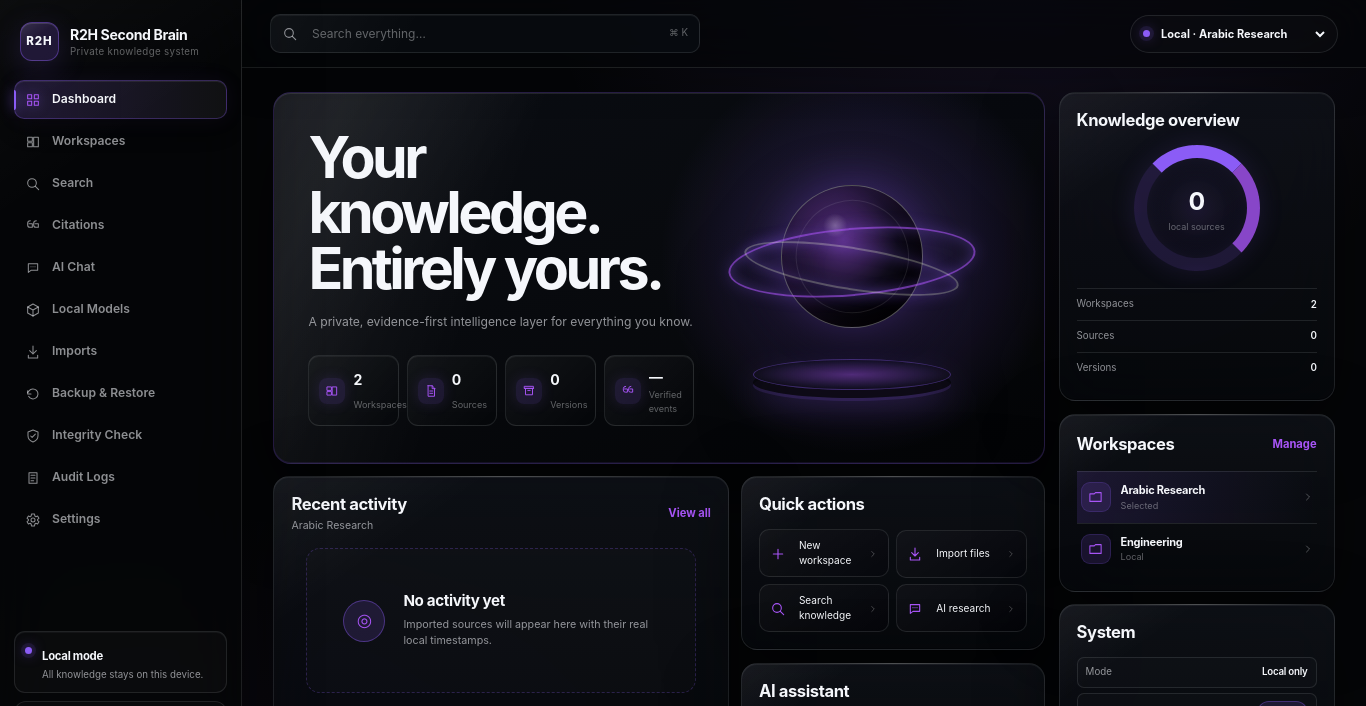
Test: R2H Second Brain desktop interface › clears stale results immediately when the selected workspace changes
Step 1. Click the button "Search" → click(120, 184), box [14,164,227,203]
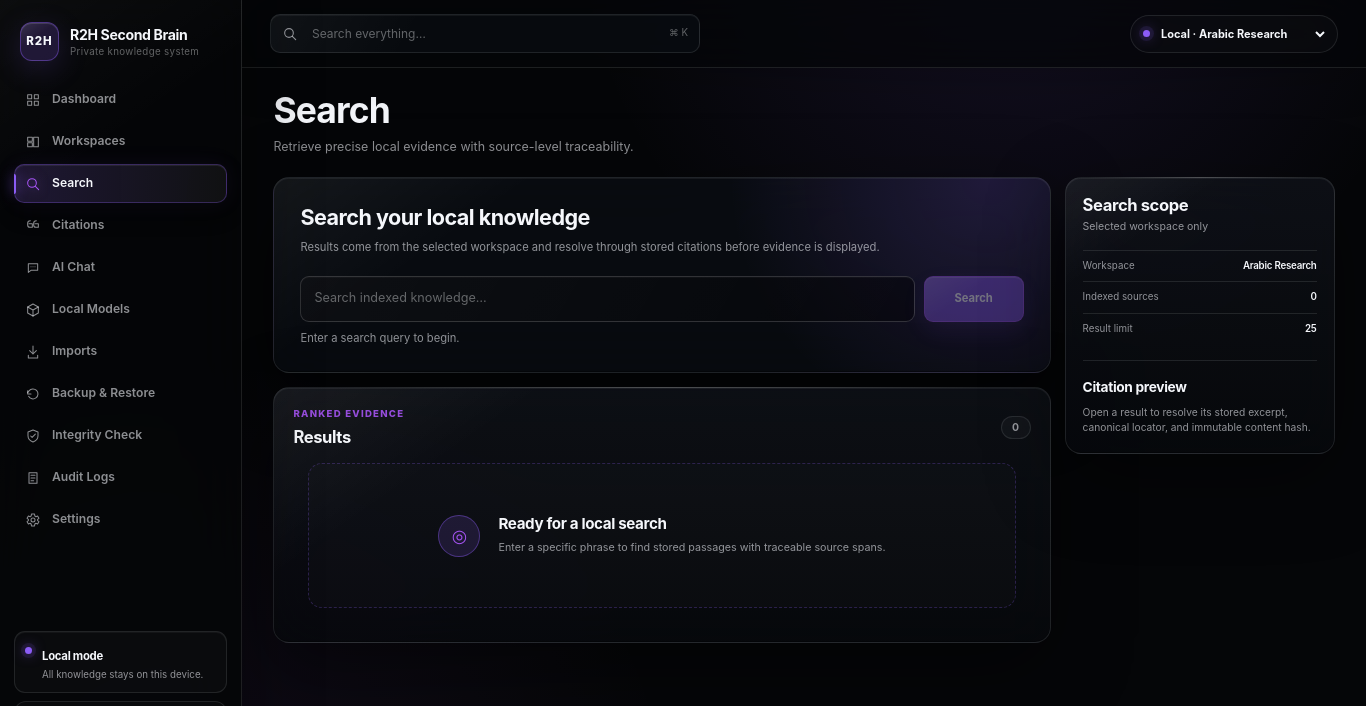
Step 2. Type "result" into the field named "search query" → (608, 299), box [300,276,915,322]
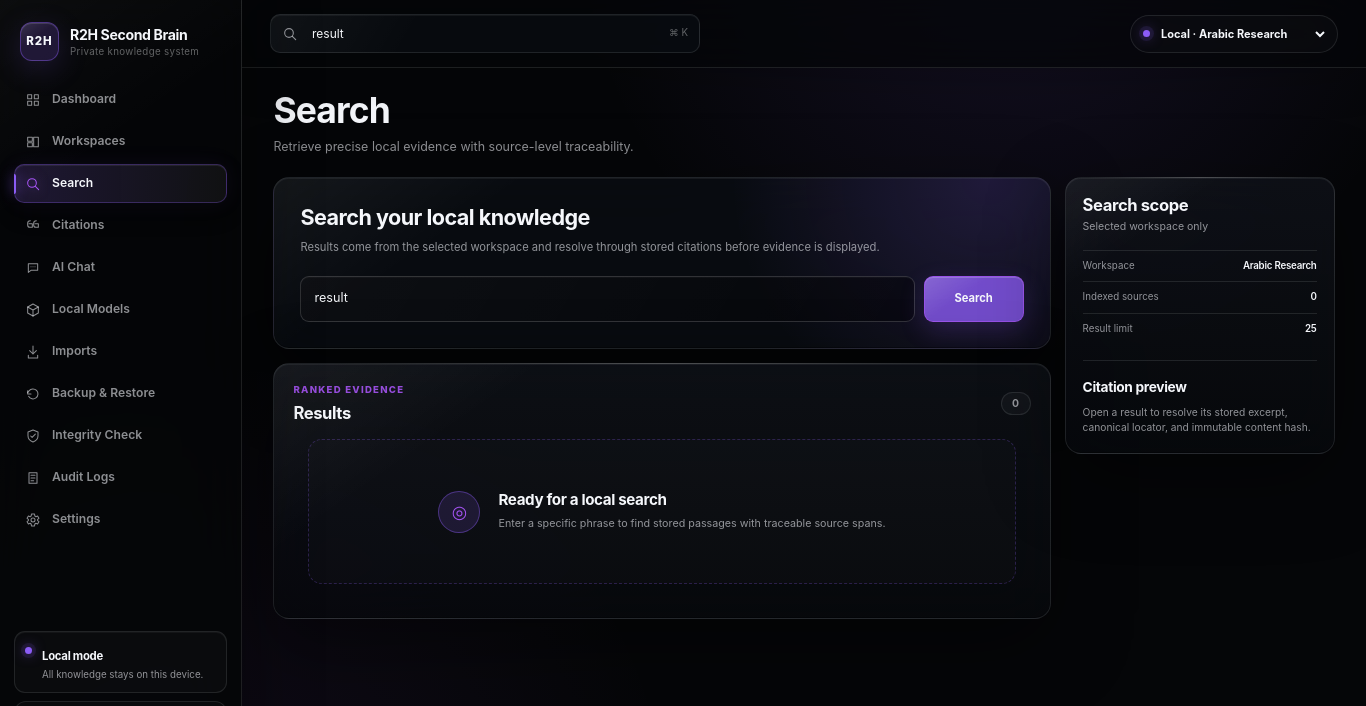
Step 3. Click the button "Search" → click(974, 299), box [924,276,1024,322]
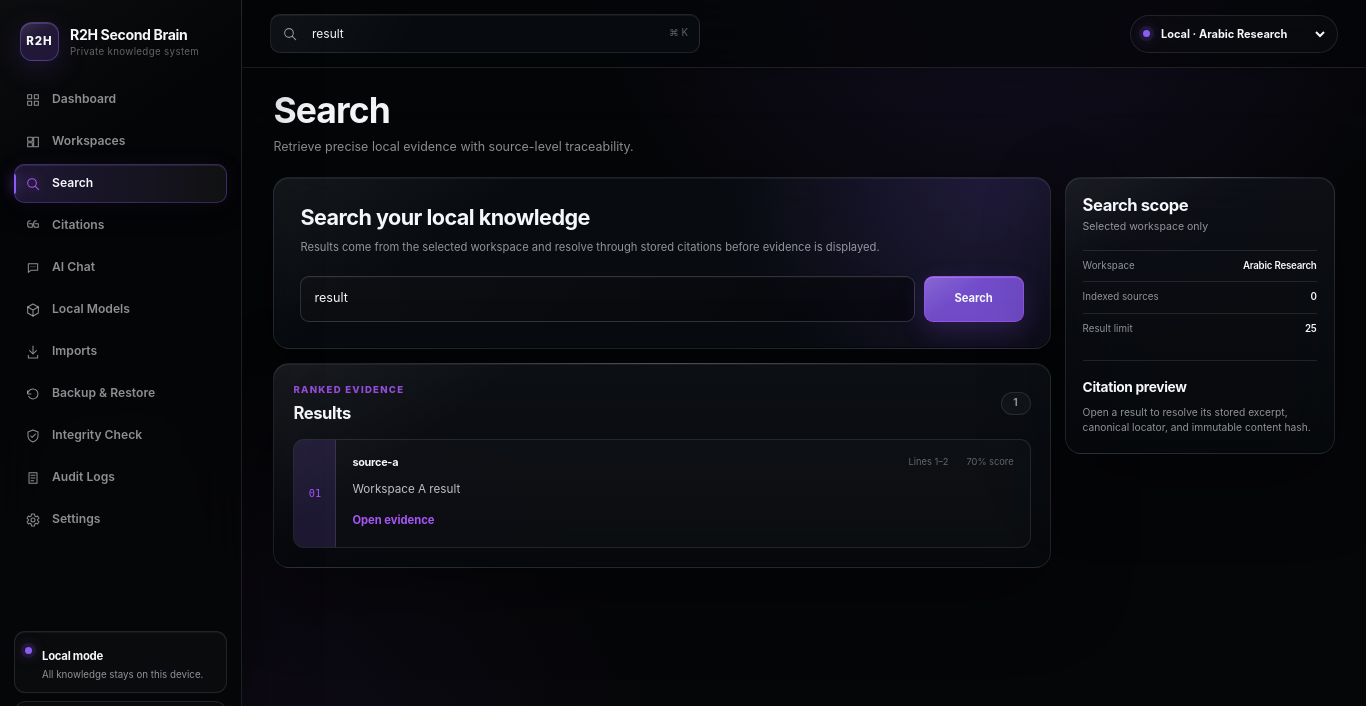
Check: the text "Workspace A result" is shown, box [352,482,460,496]
Step 4. Select "Local · Engineering" in the dropdown named "selected workspace" → (1242, 34), box [1157,16,1328,52]
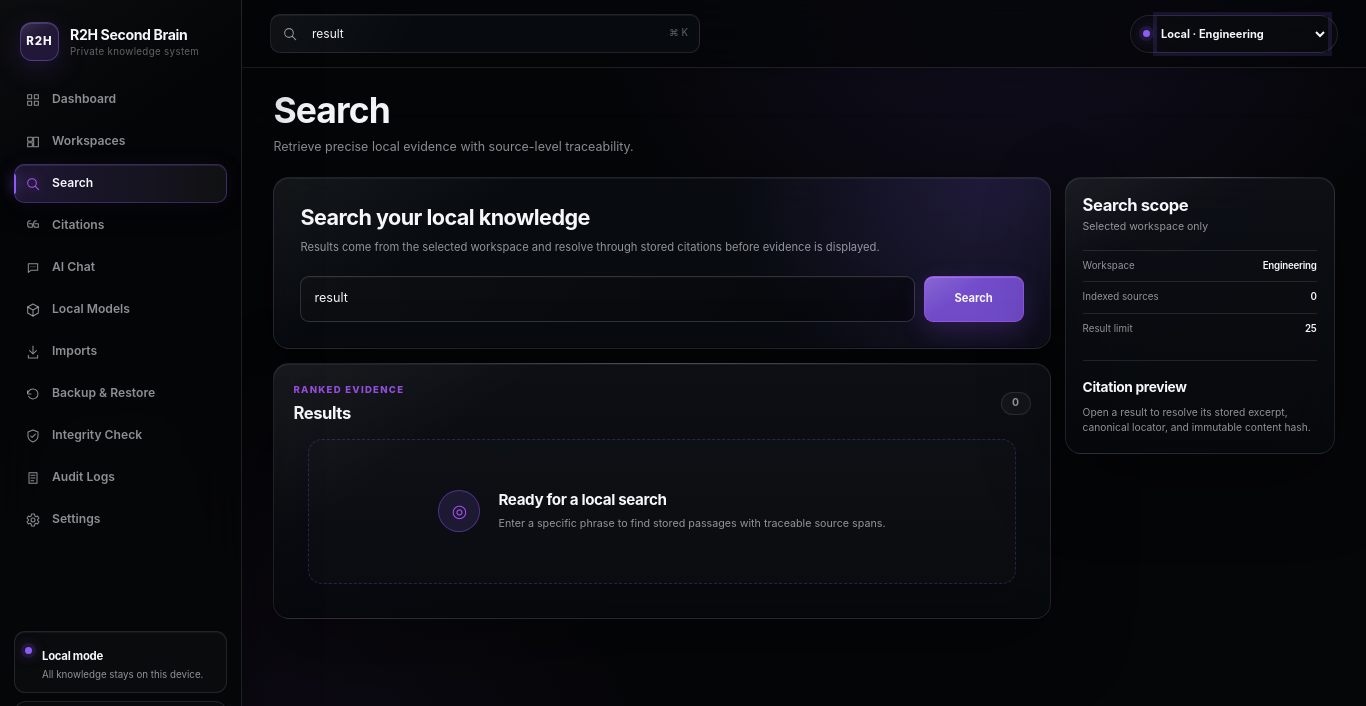
Check: the heading "Search your local knowledge" is shown, box [300,204,590,230]
Check: the text "Workspace A result" is gone
